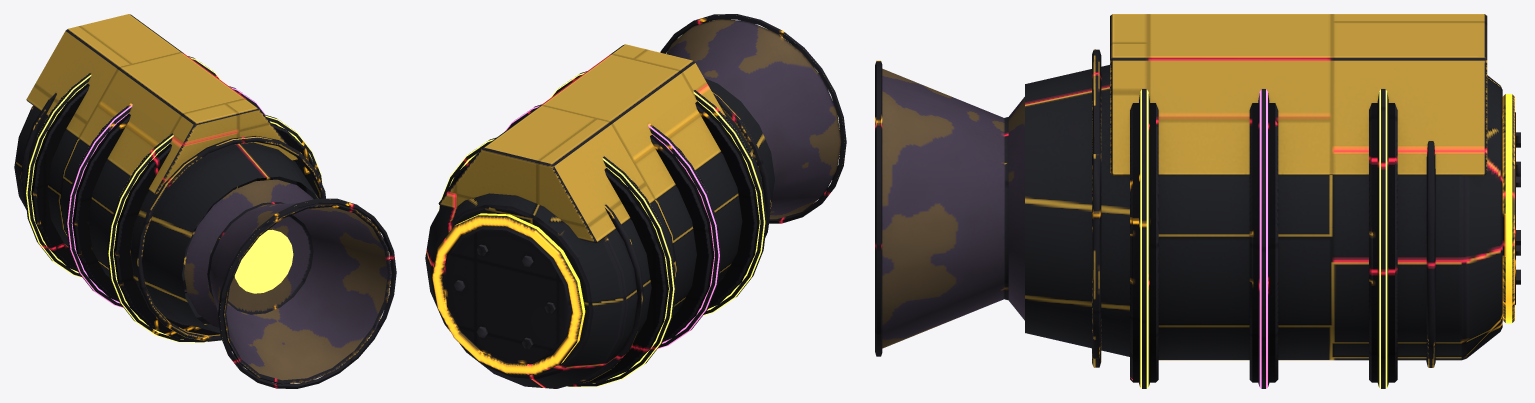
File: motor_fusion_t4.fbx
The picture shows the model from 3 angles, left to right: view 1: azimuth 30°, elevation 25°; view 2: azimuth 150°, elevation 25°; view 3: azimuth 270°, elevation 25°; orthographic projection. The views are drawn at different scales.
Parts seen in each view (by area): view 1: motor_fusion_t4, motor_fusion_t4_neon, motor_fusion_t4_neon2; view 2: motor_fusion_t4, motor_fusion_t4_neon, motor_fusion_t4_neon2; view 3: motor_fusion_t4, motor_fusion_t4_neon, motor_fusion_t4_neon2.
Part boxes in pixels (x1,y1,x2,y2): motor_fusion_t4: [14, 14, 396, 388]; motor_fusion_t4_neon: [26, 57, 330, 342]; motor_fusion_t4_neon2: [67, 87, 265, 307]; motor_fusion_t4: [425, 14, 846, 388]; motor_fusion_t4_neon: [439, 15, 765, 386]; motor_fusion_t4_neon2: [504, 105, 719, 348]; motor_fusion_t4: [875, 14, 1520, 388]; motor_fusion_t4_neon: [1140, 89, 1387, 388]; motor_fusion_t4_neon2: [1259, 89, 1267, 388].
Size of the model in its own units: 3.79 by 3.88 by 6.76.
